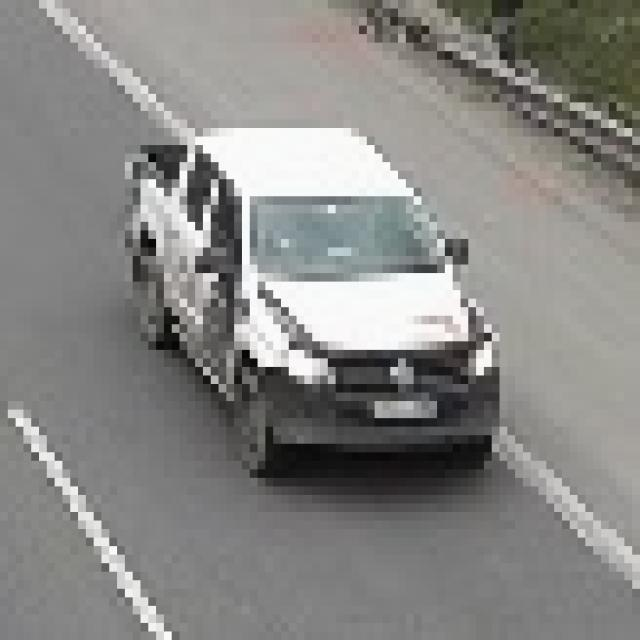CMT: (130, 128, 481, 456)
